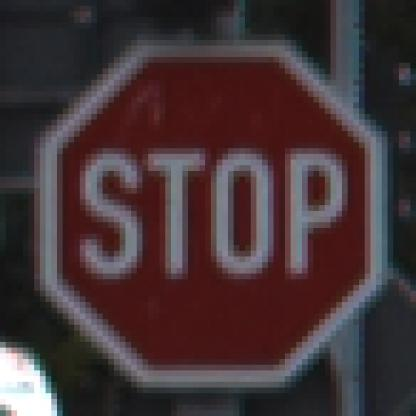Stop: (44, 46, 377, 384)
